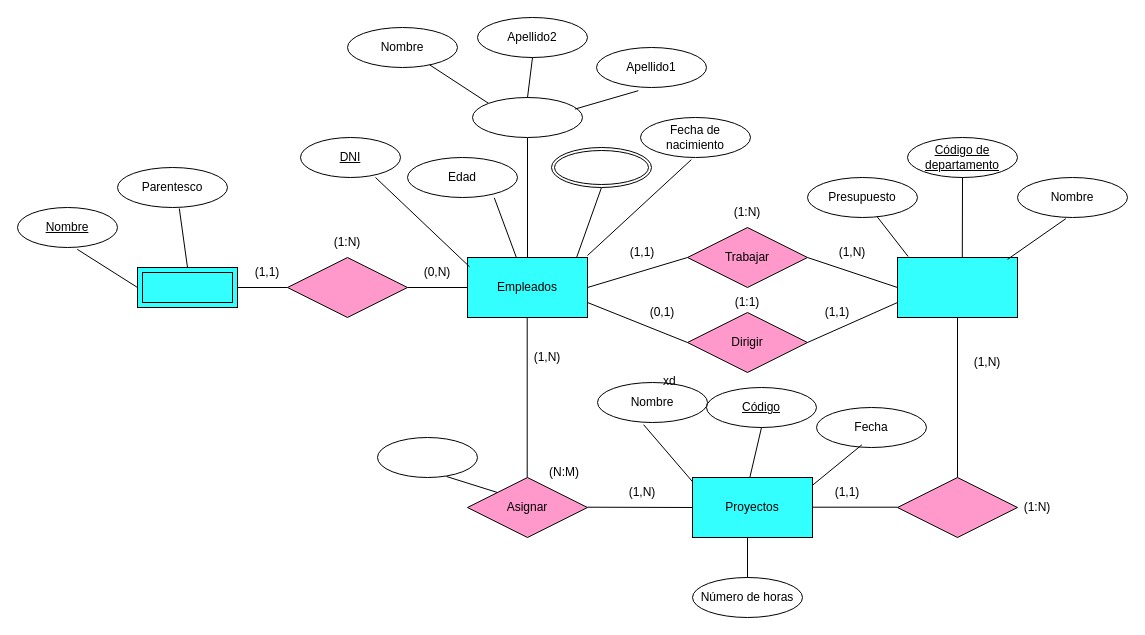
Some shapes in this 1145 by 635 pixel diagram are drawn without their labels. Each missing label, with the box of its shape:
Coordinar: (896, 476, 1018, 538)
Departamentos: (896, 256, 1018, 318)
Familiares: (136, 266, 238, 308)
Horas: (376, 436, 478, 478)
Nombre completo: (472, 96, 582, 138)
Teléfonos: (550, 146, 652, 188)
Tener: (286, 256, 408, 318)
